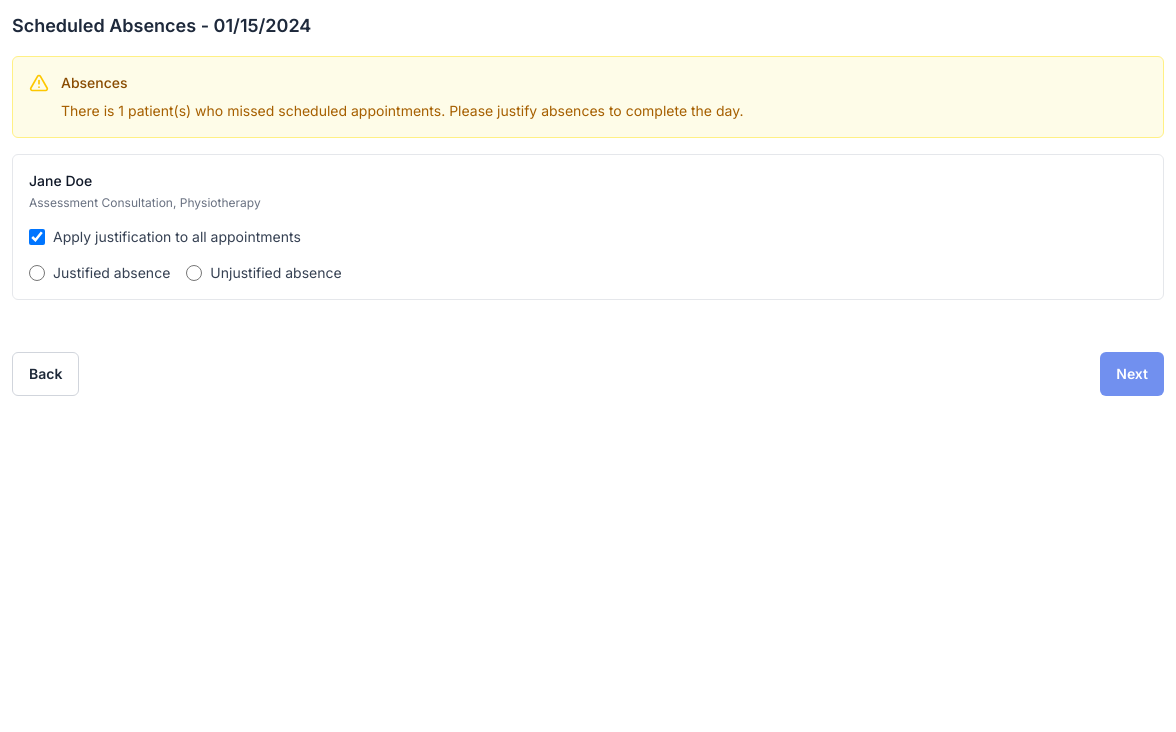
Test: AbsenceJustificationStep › shows separate assessment section label when patient has multiple absence types
The width and height of the screenshot is (1176, 732).
Click the checkbox labelled "Apply justification to all appointments" at (37, 237), box [29,229,45,245]
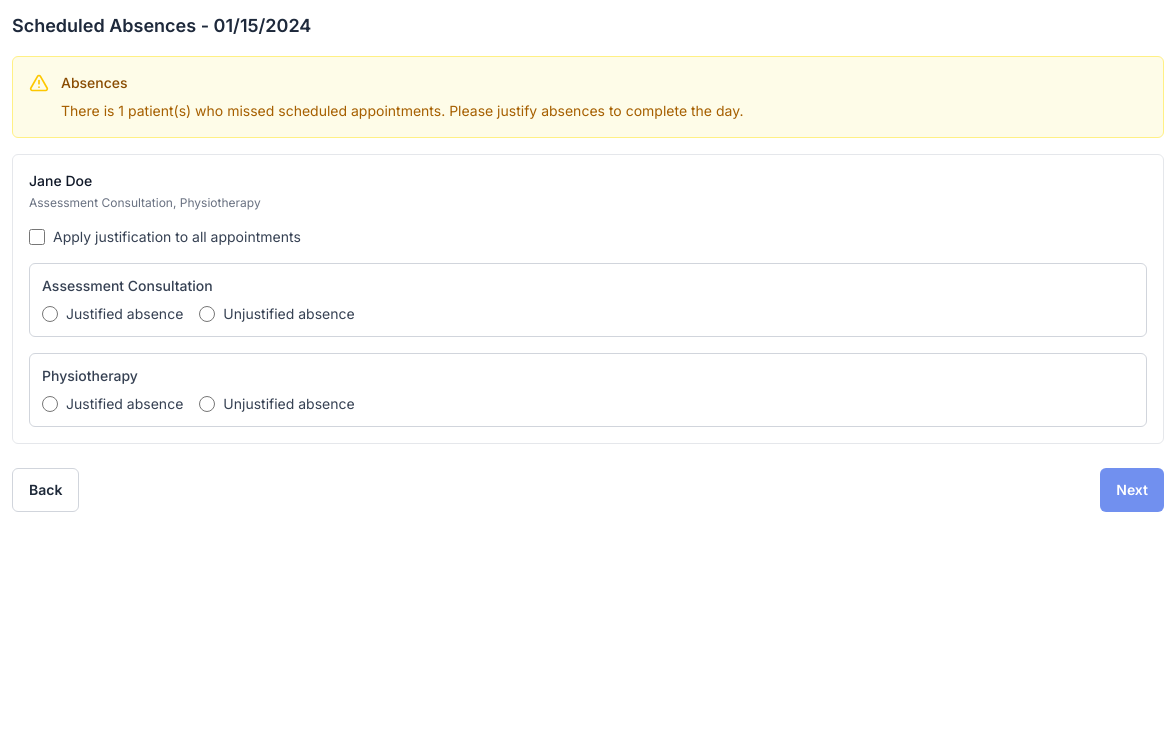
Expected: the heading "Assessment Consultation" is shown, [42,277,213,294]
Expected: the heading "Physiotherapy" is shown, [42,367,138,384]
